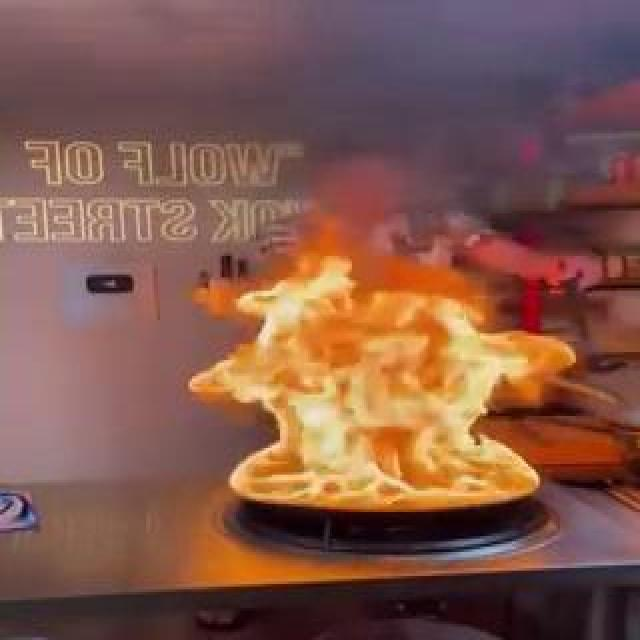Fire: (219, 163, 577, 517)
